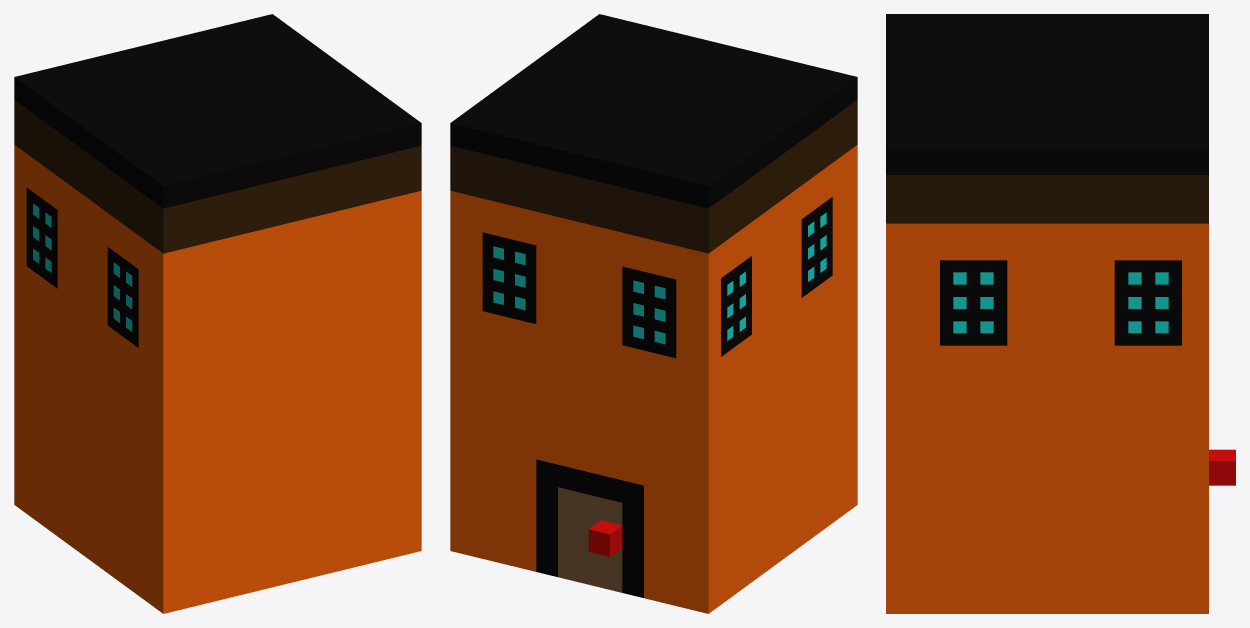
File: orangeBuildingModel.obj
3 renders of one model, left to right at view 1: azimuth 30°, elevation 25°; view 2: azimuth 150°, elevation 25°; view 3: azimuth 270°, elevation 25°, orthographic. The views are drawn at different scales.
Size of the model in its own units: 2.4 by 3.8 by 2.6.
Materials: 1 (1 with a texture image).
